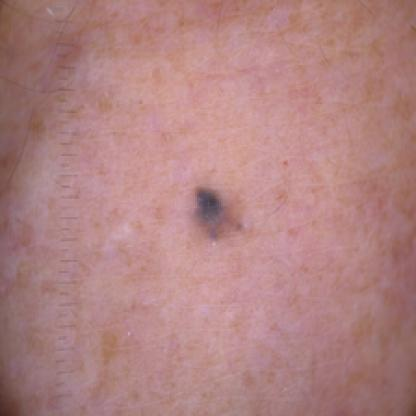benign: (180, 182, 256, 251)
